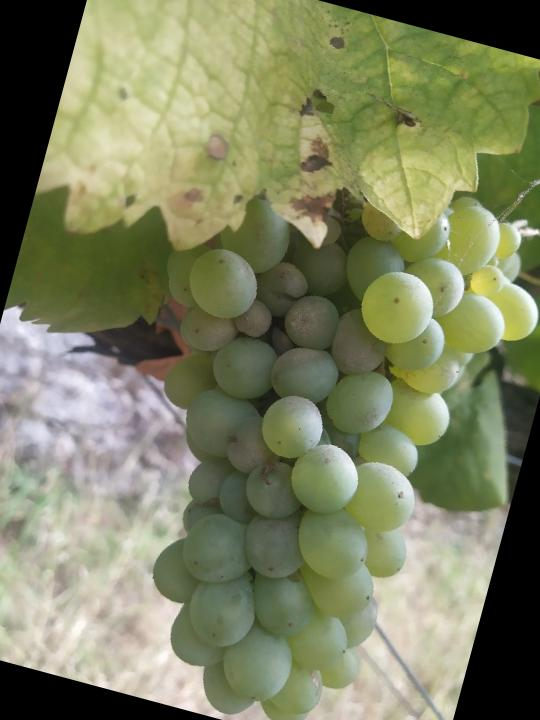grape: (58, 127, 540, 720)
